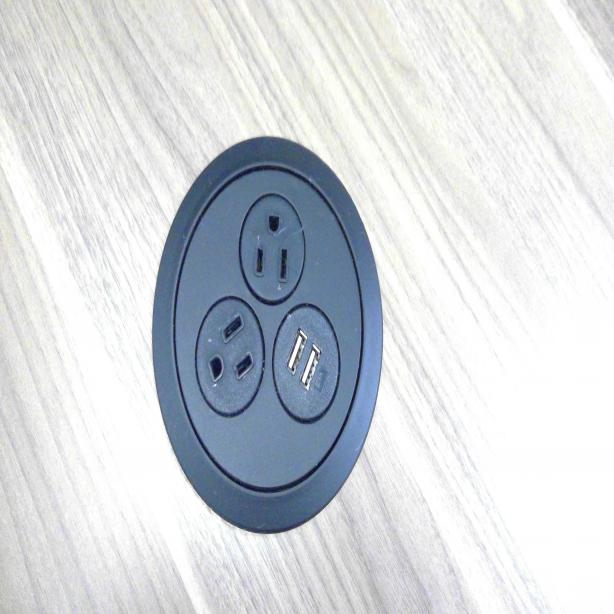typeb: (195, 301, 258, 398), (243, 197, 297, 291)
